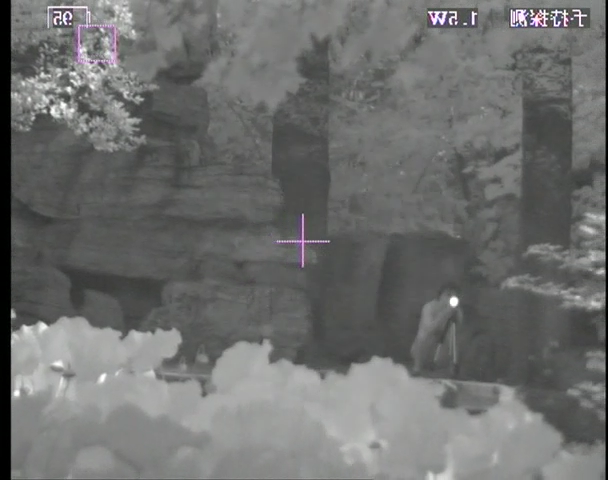my: (450, 294, 461, 309)
